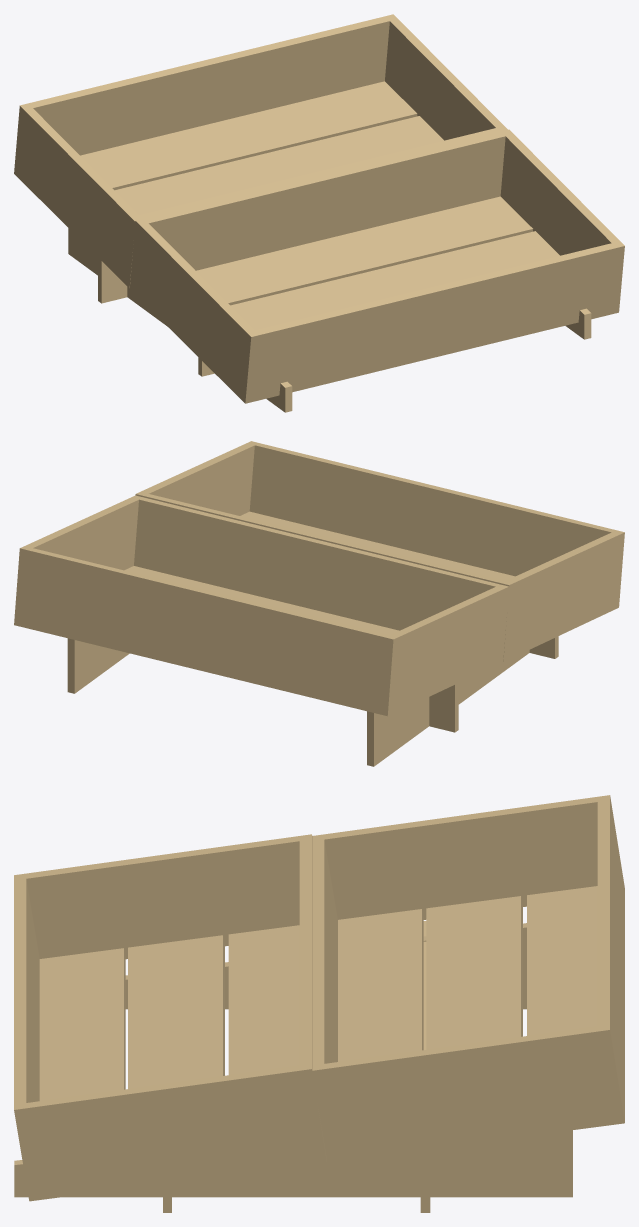
The model's file is 972_display_tray.glb.
3 renders of one model, top to bottom at view 1: azimuth 30°, elevation 25°; view 2: azimuth 150°, elevation 25°; view 3: azimuth 270°, elevation 25°, orthographic. The views are drawn at different scales.
Visible parts, largest first — view 1: Body; view 2: Body; view 3: Body.
Part boxes in pixels (bbox=[...]): Body: bbox=[14, 14, 624, 412]; Body: bbox=[14, 441, 624, 766]; Body: bbox=[14, 795, 624, 1212].
Bounding box in the file's own units: 0.6681 × 0.2499 × 0.7347.
